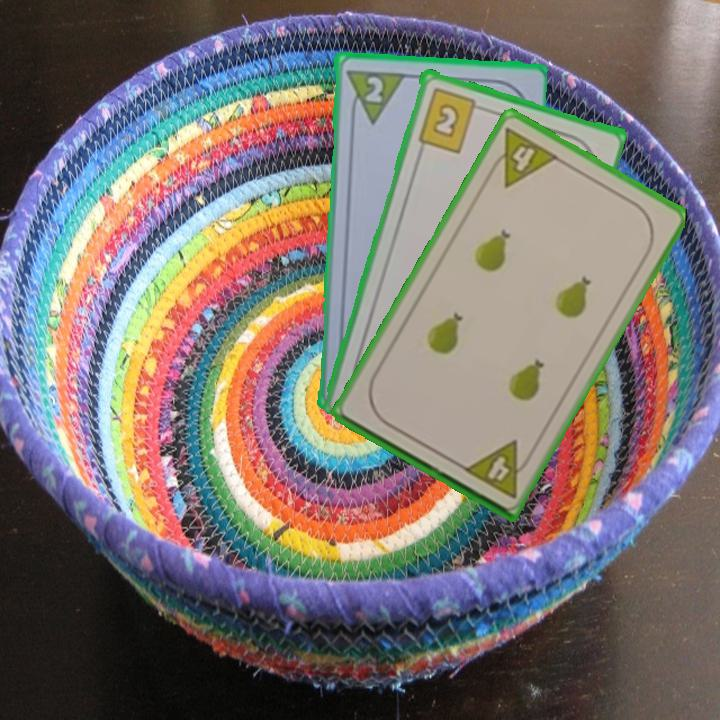2b: (414, 83, 487, 155)
2p: (342, 65, 406, 126)
4p: (483, 123, 561, 190), (459, 436, 536, 502)
